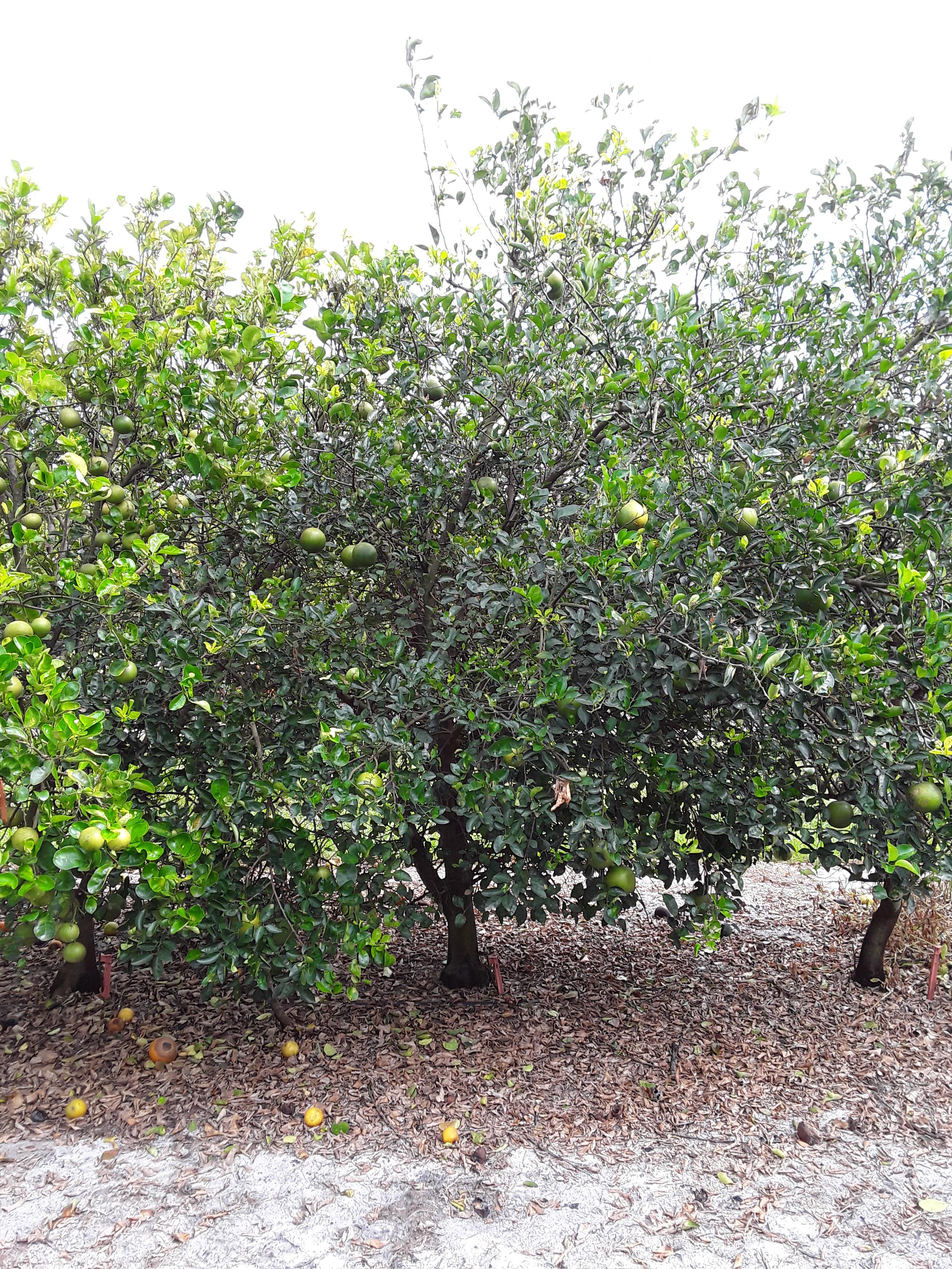fruit_on_ground: (715, 496, 763, 538), (721, 452, 774, 486), (904, 777, 948, 817), (225, 901, 266, 942), (793, 582, 838, 615), (579, 830, 616, 870), (552, 692, 593, 724), (615, 499, 653, 533), (500, 737, 536, 771), (816, 479, 856, 507), (25, 876, 56, 912), (672, 656, 702, 693), (824, 796, 858, 828), (353, 771, 388, 802), (11, 824, 44, 855), (270, 915, 303, 946), (682, 885, 716, 915), (105, 823, 135, 855), (606, 865, 633, 900), (78, 823, 109, 853), (570, 329, 602, 358), (299, 525, 325, 560), (385, 437, 418, 464), (47, 897, 81, 922), (354, 540, 382, 570), (488, 429, 515, 460), (338, 541, 364, 572), (2, 619, 37, 642), (10, 922, 42, 947), (309, 864, 336, 893), (56, 405, 87, 430), (56, 917, 81, 947), (1, 803, 27, 830), (91, 497, 116, 525), (62, 939, 87, 967), (86, 454, 112, 480), (96, 898, 124, 922), (541, 264, 563, 294), (423, 378, 450, 402), (547, 278, 571, 305), (166, 491, 194, 514), (31, 612, 54, 640), (18, 510, 47, 532), (475, 475, 500, 500), (112, 497, 137, 522), (109, 413, 136, 436), (106, 486, 129, 513), (117, 655, 138, 682), (134, 513, 158, 536), (351, 400, 376, 422), (340, 895, 361, 921), (772, 839, 795, 862), (118, 530, 143, 551), (2, 674, 22, 700), (75, 380, 95, 403), (102, 381, 122, 402), (95, 530, 113, 549), (79, 563, 101, 578), (0, 473, 8, 497)
fruit_on_tree: (147, 1035, 182, 1064), (795, 1120, 827, 1148), (64, 1095, 94, 1121), (439, 1119, 461, 1148), (96, 922, 128, 940), (303, 1103, 323, 1131), (471, 1143, 492, 1169), (105, 1013, 126, 1038), (279, 1037, 299, 1061), (115, 1003, 135, 1026), (654, 902, 674, 923), (391, 890, 414, 907), (0, 918, 13, 937)
